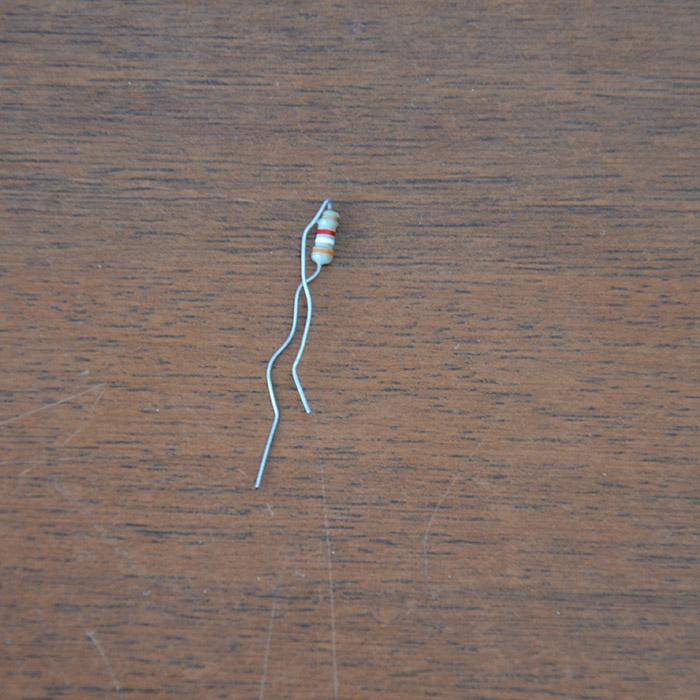resistor: (310, 208, 340, 266)
